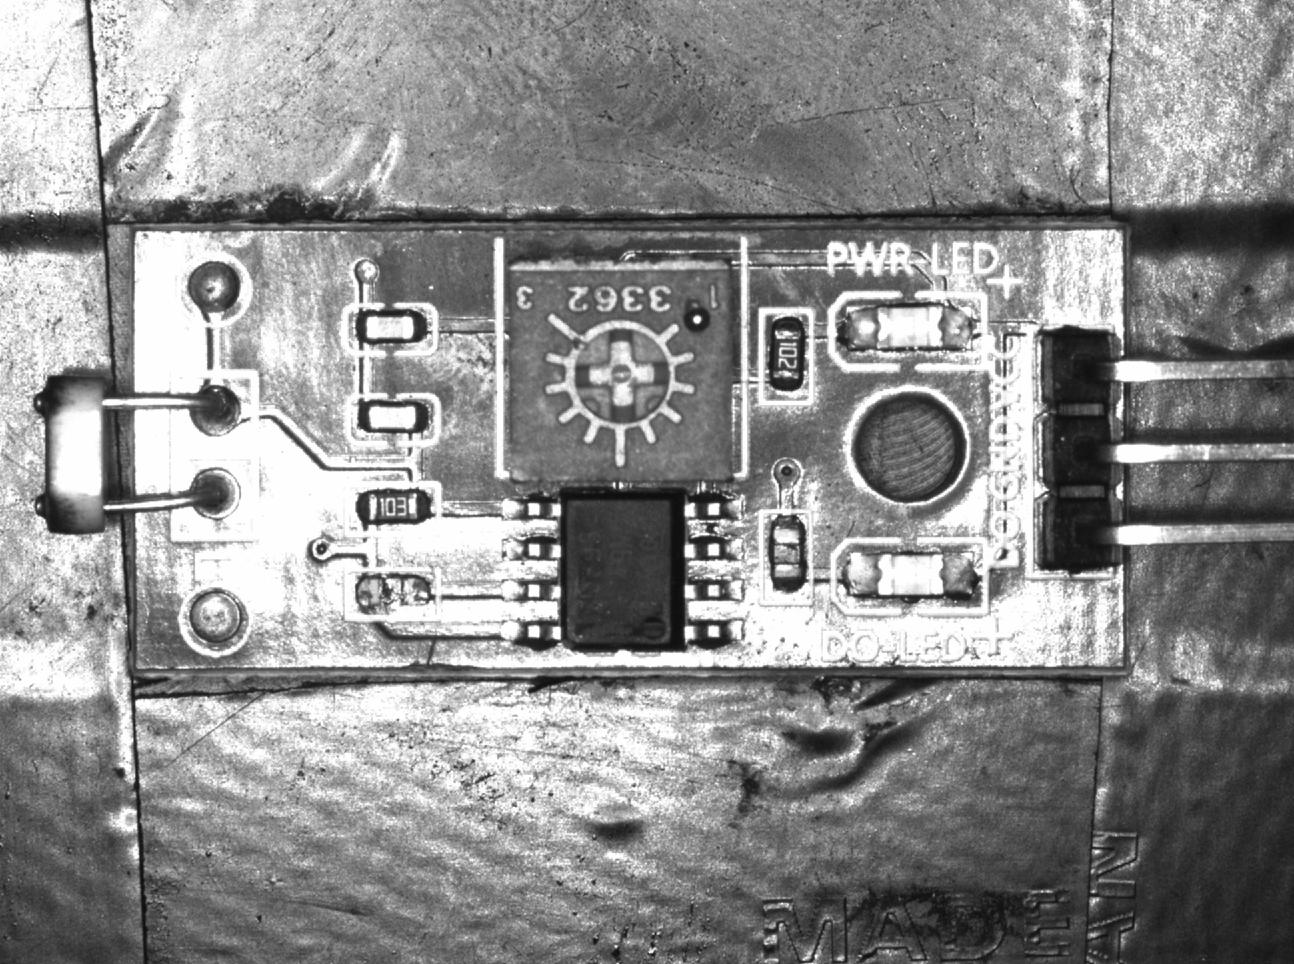miss: (341, 566, 443, 621), (759, 510, 811, 605)
ok: (343, 478, 443, 534), (760, 311, 814, 409), (343, 394, 441, 444), (343, 308, 439, 356)
